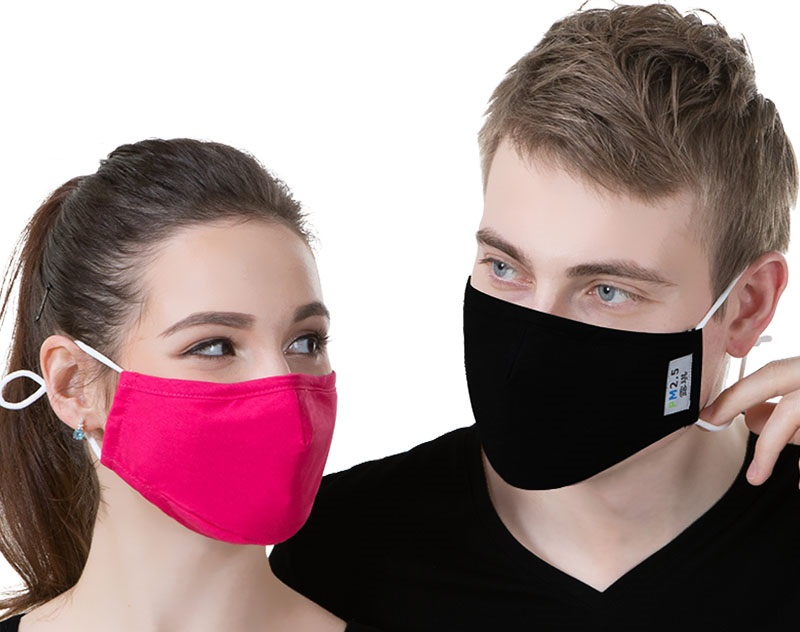face_mask: (464, 140, 705, 486), (94, 221, 337, 549)
